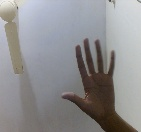hand: (60, 36, 119, 119)
